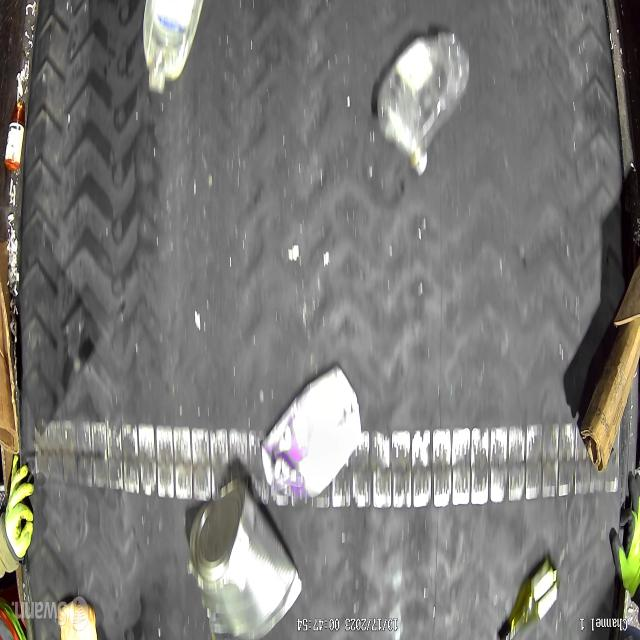can: (188, 475, 304, 640)
non_white_jug: (260, 364, 362, 506)
plastic_bottle: (376, 32, 471, 174)
